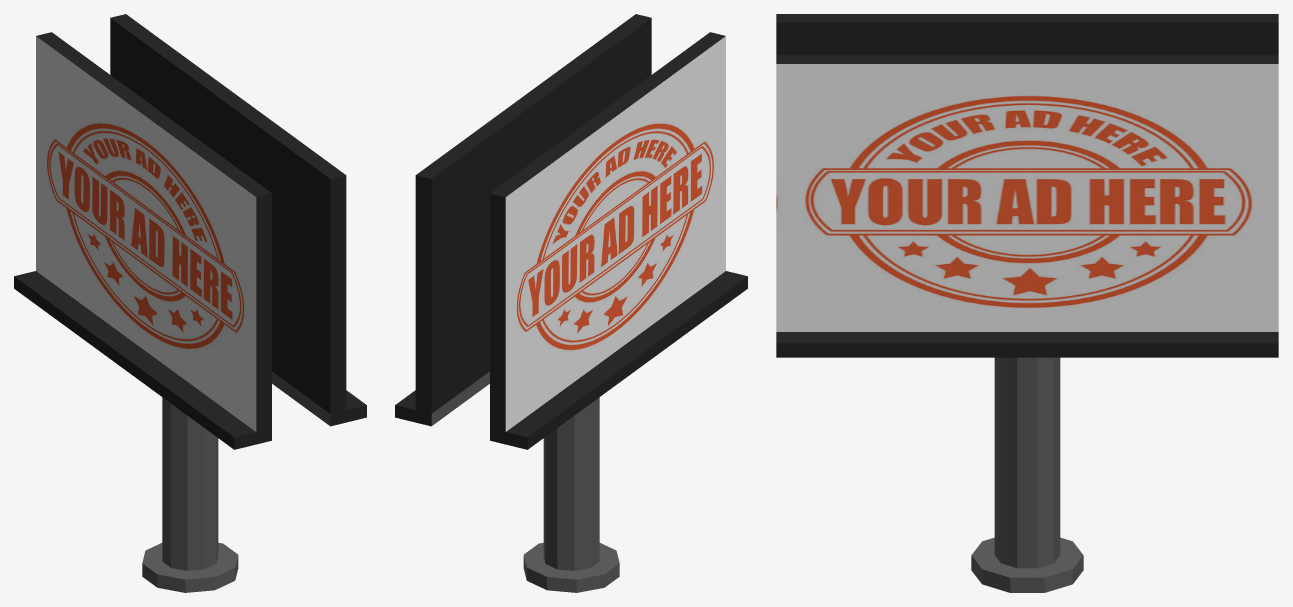
The model's file is billboard_city_oldenburg.fbx.
3 renders of one model, left to right at view 1: azimuth 30°, elevation 25°; view 2: azimuth 150°, elevation 25°; view 3: azimuth 270°, elevation 25°, orthographic. The views are drawn at different scales.
Visible parts, largest first — view 1: billboard; view 2: billboard; view 3: billboard.
Boxes of the visible parts, x1,y1,x2,y2 form: billboard: [14, 14, 366, 592]; billboard: [395, 14, 747, 592]; billboard: [776, 14, 1278, 592].
Size of the model in its own units: 312 by 1048 by 897.
